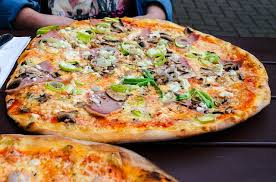pizza: (24, 23, 269, 137)
